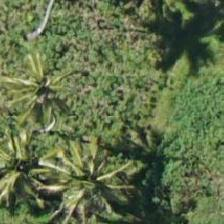coconut_tree: (3, 42, 93, 132), (39, 139, 129, 223), (0, 118, 63, 208)
